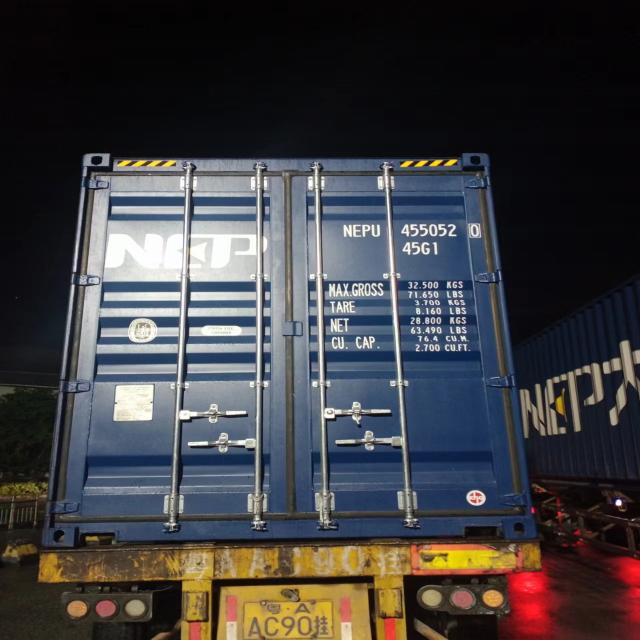seal: (354, 407, 364, 426)
